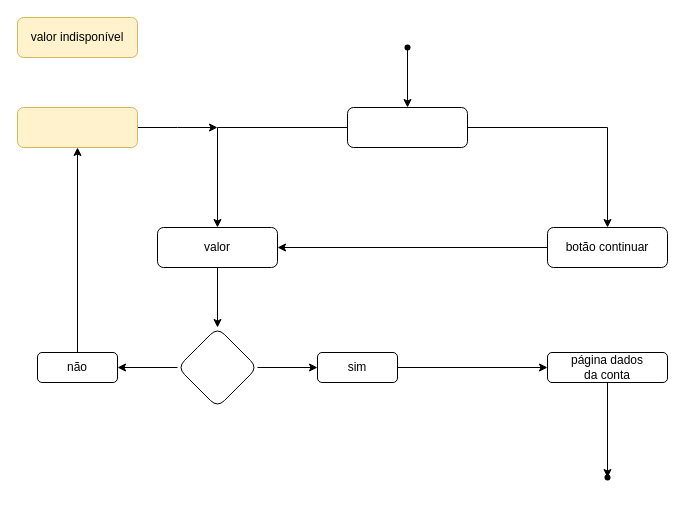
This 685x515 diagram has some shape labels left out. The shapes that lost their labels are listed below. From the top down, each one's box as (x1, y1, x2, y2) in pixels, then its label:
(16, 106, 138, 148): alerta usuário
(346, 106, 468, 148): página quanto você quer transferir
(176, 326, 258, 408): valor está disponível
